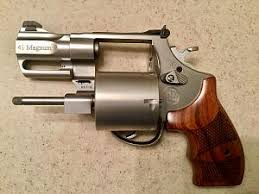gun: (13, 19, 247, 189)
